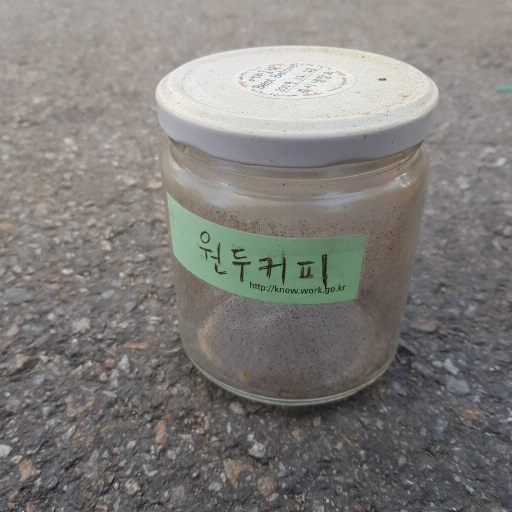Glass_5: (144, 42, 441, 411)
